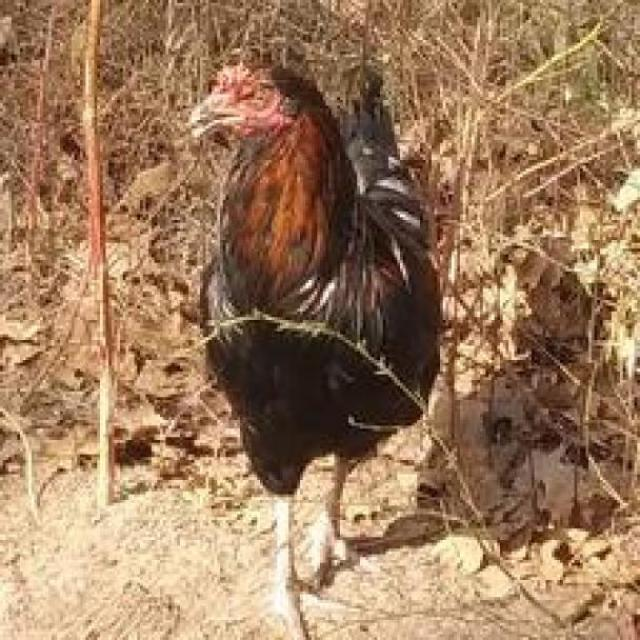Chicken: (183, 39, 523, 630)
